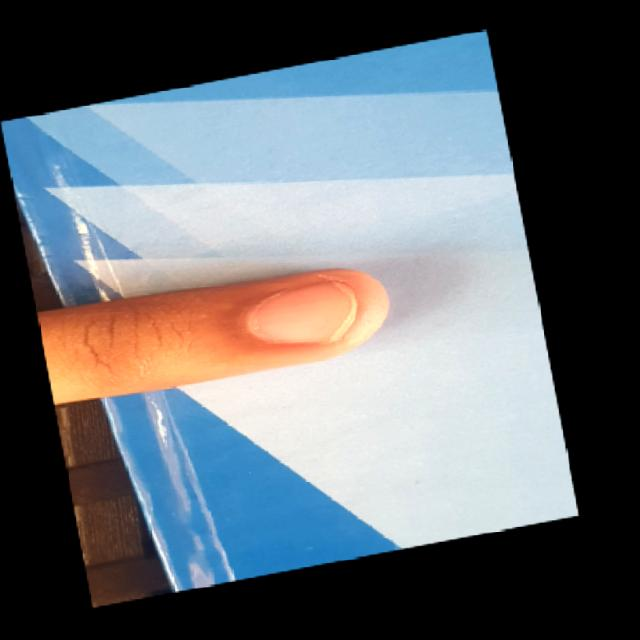Nail: (254, 281, 356, 341)
